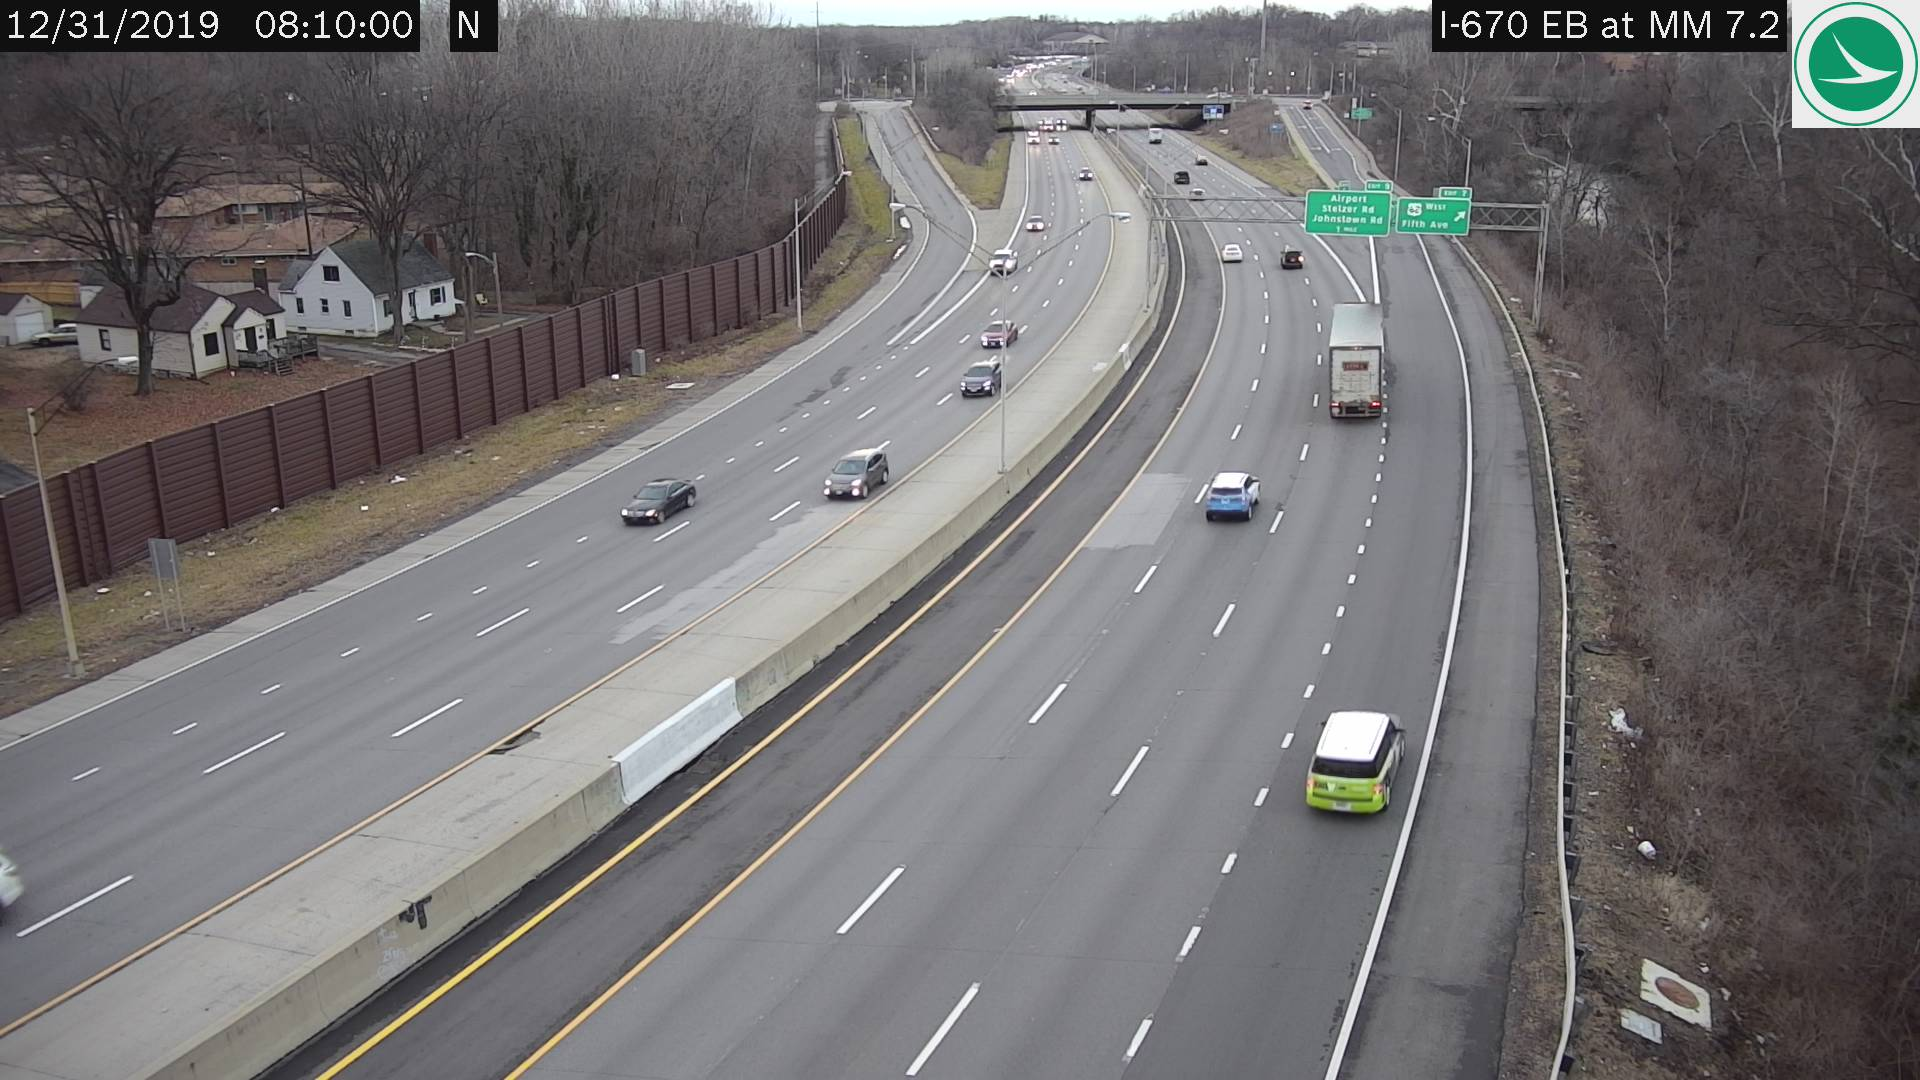car: (1305, 708, 1402, 816), (1331, 301, 1382, 415), (622, 476, 694, 524), (1203, 472, 1262, 524), (825, 448, 886, 496), (961, 363, 1000, 396), (981, 320, 1015, 345), (989, 248, 1017, 276), (1280, 248, 1305, 268), (1221, 244, 1244, 262), (1025, 216, 1043, 232), (1174, 167, 1189, 185), (1147, 127, 1160, 144), (1189, 189, 1205, 200), (1079, 167, 1093, 179), (1195, 154, 1207, 164)
